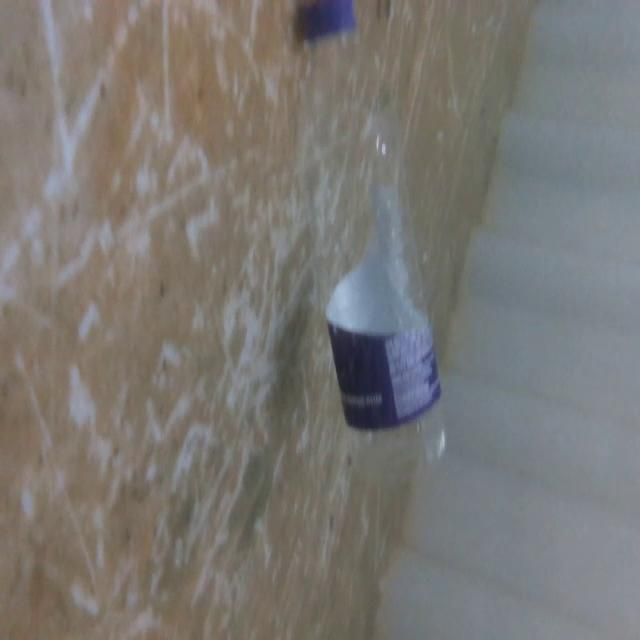plastic bottle: (291, 6, 460, 482)
